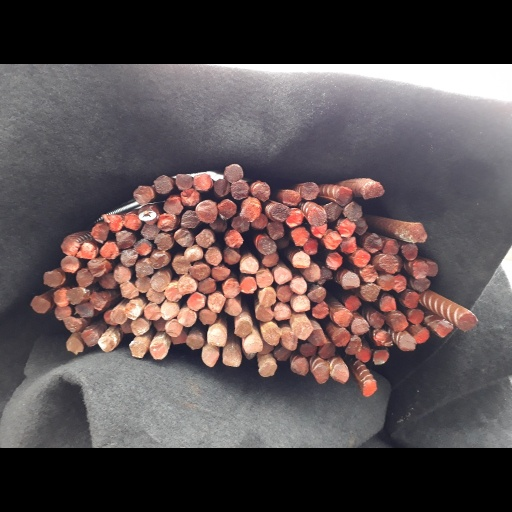dipstick: (132, 186, 154, 205), (197, 201, 216, 221), (363, 180, 384, 198), (150, 340, 168, 360), (457, 313, 477, 331), (154, 174, 172, 193), (139, 206, 158, 224), (174, 229, 193, 247), (207, 329, 226, 347), (343, 203, 362, 221), (361, 283, 380, 301), (379, 255, 398, 273), (409, 223, 426, 243), (364, 234, 382, 252), (294, 322, 312, 340), (390, 313, 408, 331), (219, 201, 236, 220), (31, 296, 50, 313), (208, 293, 225, 312), (233, 320, 252, 337), (333, 310, 352, 327), (225, 164, 243, 181), (158, 213, 176, 230), (196, 230, 214, 247), (151, 252, 169, 269), (87, 259, 105, 276), (225, 298, 242, 316), (201, 349, 219, 366), (272, 204, 290, 221), (308, 208, 326, 225), (291, 227, 308, 245), (91, 223, 107, 242), (257, 238, 276, 254), (325, 203, 341, 222), (332, 364, 348, 383), (253, 183, 270, 200), (61, 238, 78, 255), (155, 234, 172, 251), (136, 261, 153, 278), (114, 266, 131, 283), (223, 350, 240, 367), (263, 328, 280, 345), (267, 222, 284, 239), (292, 251, 309, 268), (352, 318, 369, 335), (291, 358, 308, 375), (241, 204, 259, 220), (164, 198, 182, 214), (61, 255, 77, 273), (43, 271, 61, 287), (120, 283, 138, 299), (161, 303, 179, 319), (259, 289, 275, 307), (292, 296, 310, 312), (326, 230, 341, 249), (193, 174, 210, 190), (231, 182, 247, 199), (123, 213, 140, 229), (101, 243, 118, 259), (117, 231, 133, 248), (120, 250, 137, 266), (151, 275, 168, 291), (240, 258, 257, 274), (131, 319, 148, 335), (240, 277, 257, 293), (284, 190, 301, 206), (302, 182, 319, 198), (337, 187, 353, 204), (326, 252, 342, 269), (341, 236, 357, 253), (312, 303, 329, 319), (333, 330, 350, 346), (309, 329, 326, 345), (313, 366, 329, 383), (399, 335, 416, 351), (378, 274, 394, 291), (360, 266, 377, 282), (181, 190, 199, 205), (225, 232, 243, 247), (178, 311, 196, 326), (288, 209, 303, 227), (308, 287, 326, 302), (374, 331, 392, 346), (369, 311, 384, 329), (196, 279, 215, 293), (190, 265, 210, 278), (79, 242, 95, 258), (339, 220, 355, 236), (354, 250, 370, 266), (408, 309, 424, 325), (134, 240, 151, 255), (181, 211, 196, 228), (77, 270, 92, 287), (179, 278, 196, 293), (206, 248, 221, 265), (223, 249, 240, 264), (232, 216, 249, 231), (166, 320, 181, 337), (189, 293, 204, 310), (259, 361, 276, 376), (255, 306, 272, 321), (274, 305, 291, 320), (282, 333, 297, 350), (380, 296, 397, 311), (436, 322, 453, 337), (91, 292, 105, 310), (342, 273, 360, 287), (176, 174, 192, 189), (215, 179, 230, 195), (107, 214, 122, 230), (67, 339, 83, 354), (129, 342, 145, 357), (304, 266, 320, 281), (291, 278, 306, 294), (345, 295, 361, 310), (345, 339, 361, 354), (404, 292, 419, 308), (402, 244, 417, 260), (199, 310, 216, 324), (274, 269, 291, 283), (413, 262, 427, 279), (75, 304, 93, 317), (63, 318, 81, 331), (68, 289, 83, 304), (174, 259, 189, 274), (82, 330, 97, 345), (99, 336, 114, 351), (224, 282, 239, 297), (363, 381, 378, 396), (356, 347, 371, 362), (383, 239, 398, 254), (142, 225, 158, 239), (54, 290, 68, 306), (144, 305, 160, 319), (276, 286, 290, 302), (319, 344, 335, 358), (373, 350, 389, 364), (146, 290, 163, 303), (186, 335, 203, 348), (256, 273, 273, 286), (355, 218, 368, 235), (212, 267, 230, 279), (394, 274, 406, 292), (165, 287, 180, 301), (186, 247, 201, 261), (303, 239, 317, 254), (320, 267, 333, 283), (414, 279, 430, 292), (210, 220, 227, 232), (300, 344, 317, 356), (245, 342, 263, 353), (136, 278, 150, 292), (415, 329, 429, 343), (100, 275, 115, 288), (126, 303, 139, 318), (311, 225, 326, 238), (275, 348, 291, 360), (252, 215, 266, 228), (112, 309, 125, 323), (55, 306, 70, 318), (262, 255, 278, 266), (427, 262, 438, 276), (103, 310, 112, 325), (120, 323, 132, 334), (153, 320, 165, 331), (172, 336, 185, 344)
